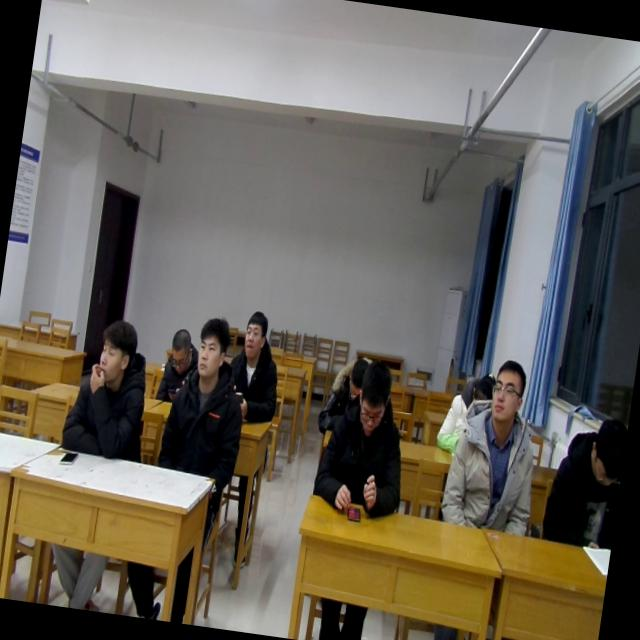bow: (432, 362, 500, 461), (315, 347, 377, 438)
down: (580, 399, 628, 496), (351, 350, 399, 438), (161, 322, 196, 380), (342, 349, 372, 405), (466, 363, 496, 408)
lookup: (91, 313, 142, 391), (483, 352, 531, 431), (188, 310, 235, 388), (235, 304, 272, 362)
sit: (436, 352, 552, 540), (310, 354, 420, 522), (154, 310, 260, 483), (58, 311, 162, 466), (536, 406, 630, 558), (220, 306, 292, 428), (152, 320, 205, 406)
